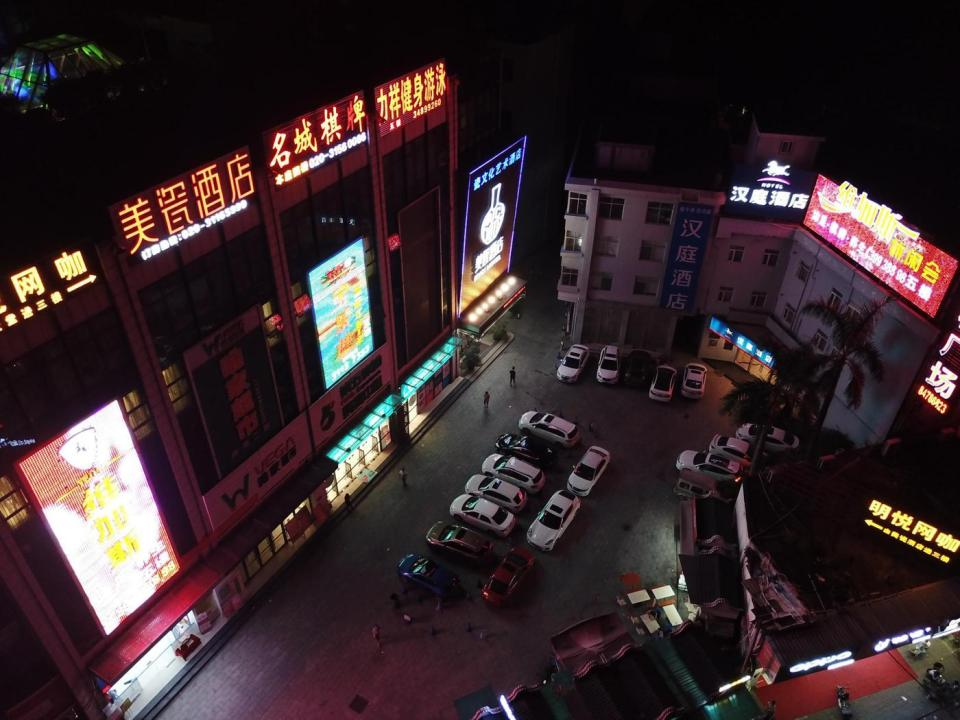car: (480, 545, 537, 607), (526, 490, 582, 551), (397, 552, 462, 602), (426, 521, 494, 567), (448, 493, 516, 538), (709, 433, 774, 476), (676, 449, 743, 488), (482, 452, 546, 492), (465, 474, 527, 514), (519, 411, 580, 450), (566, 445, 611, 496), (495, 433, 557, 470), (734, 421, 801, 454), (556, 344, 590, 384), (622, 349, 652, 388), (648, 364, 677, 404), (680, 362, 707, 400), (596, 346, 621, 384)
van: (673, 468, 736, 508)
